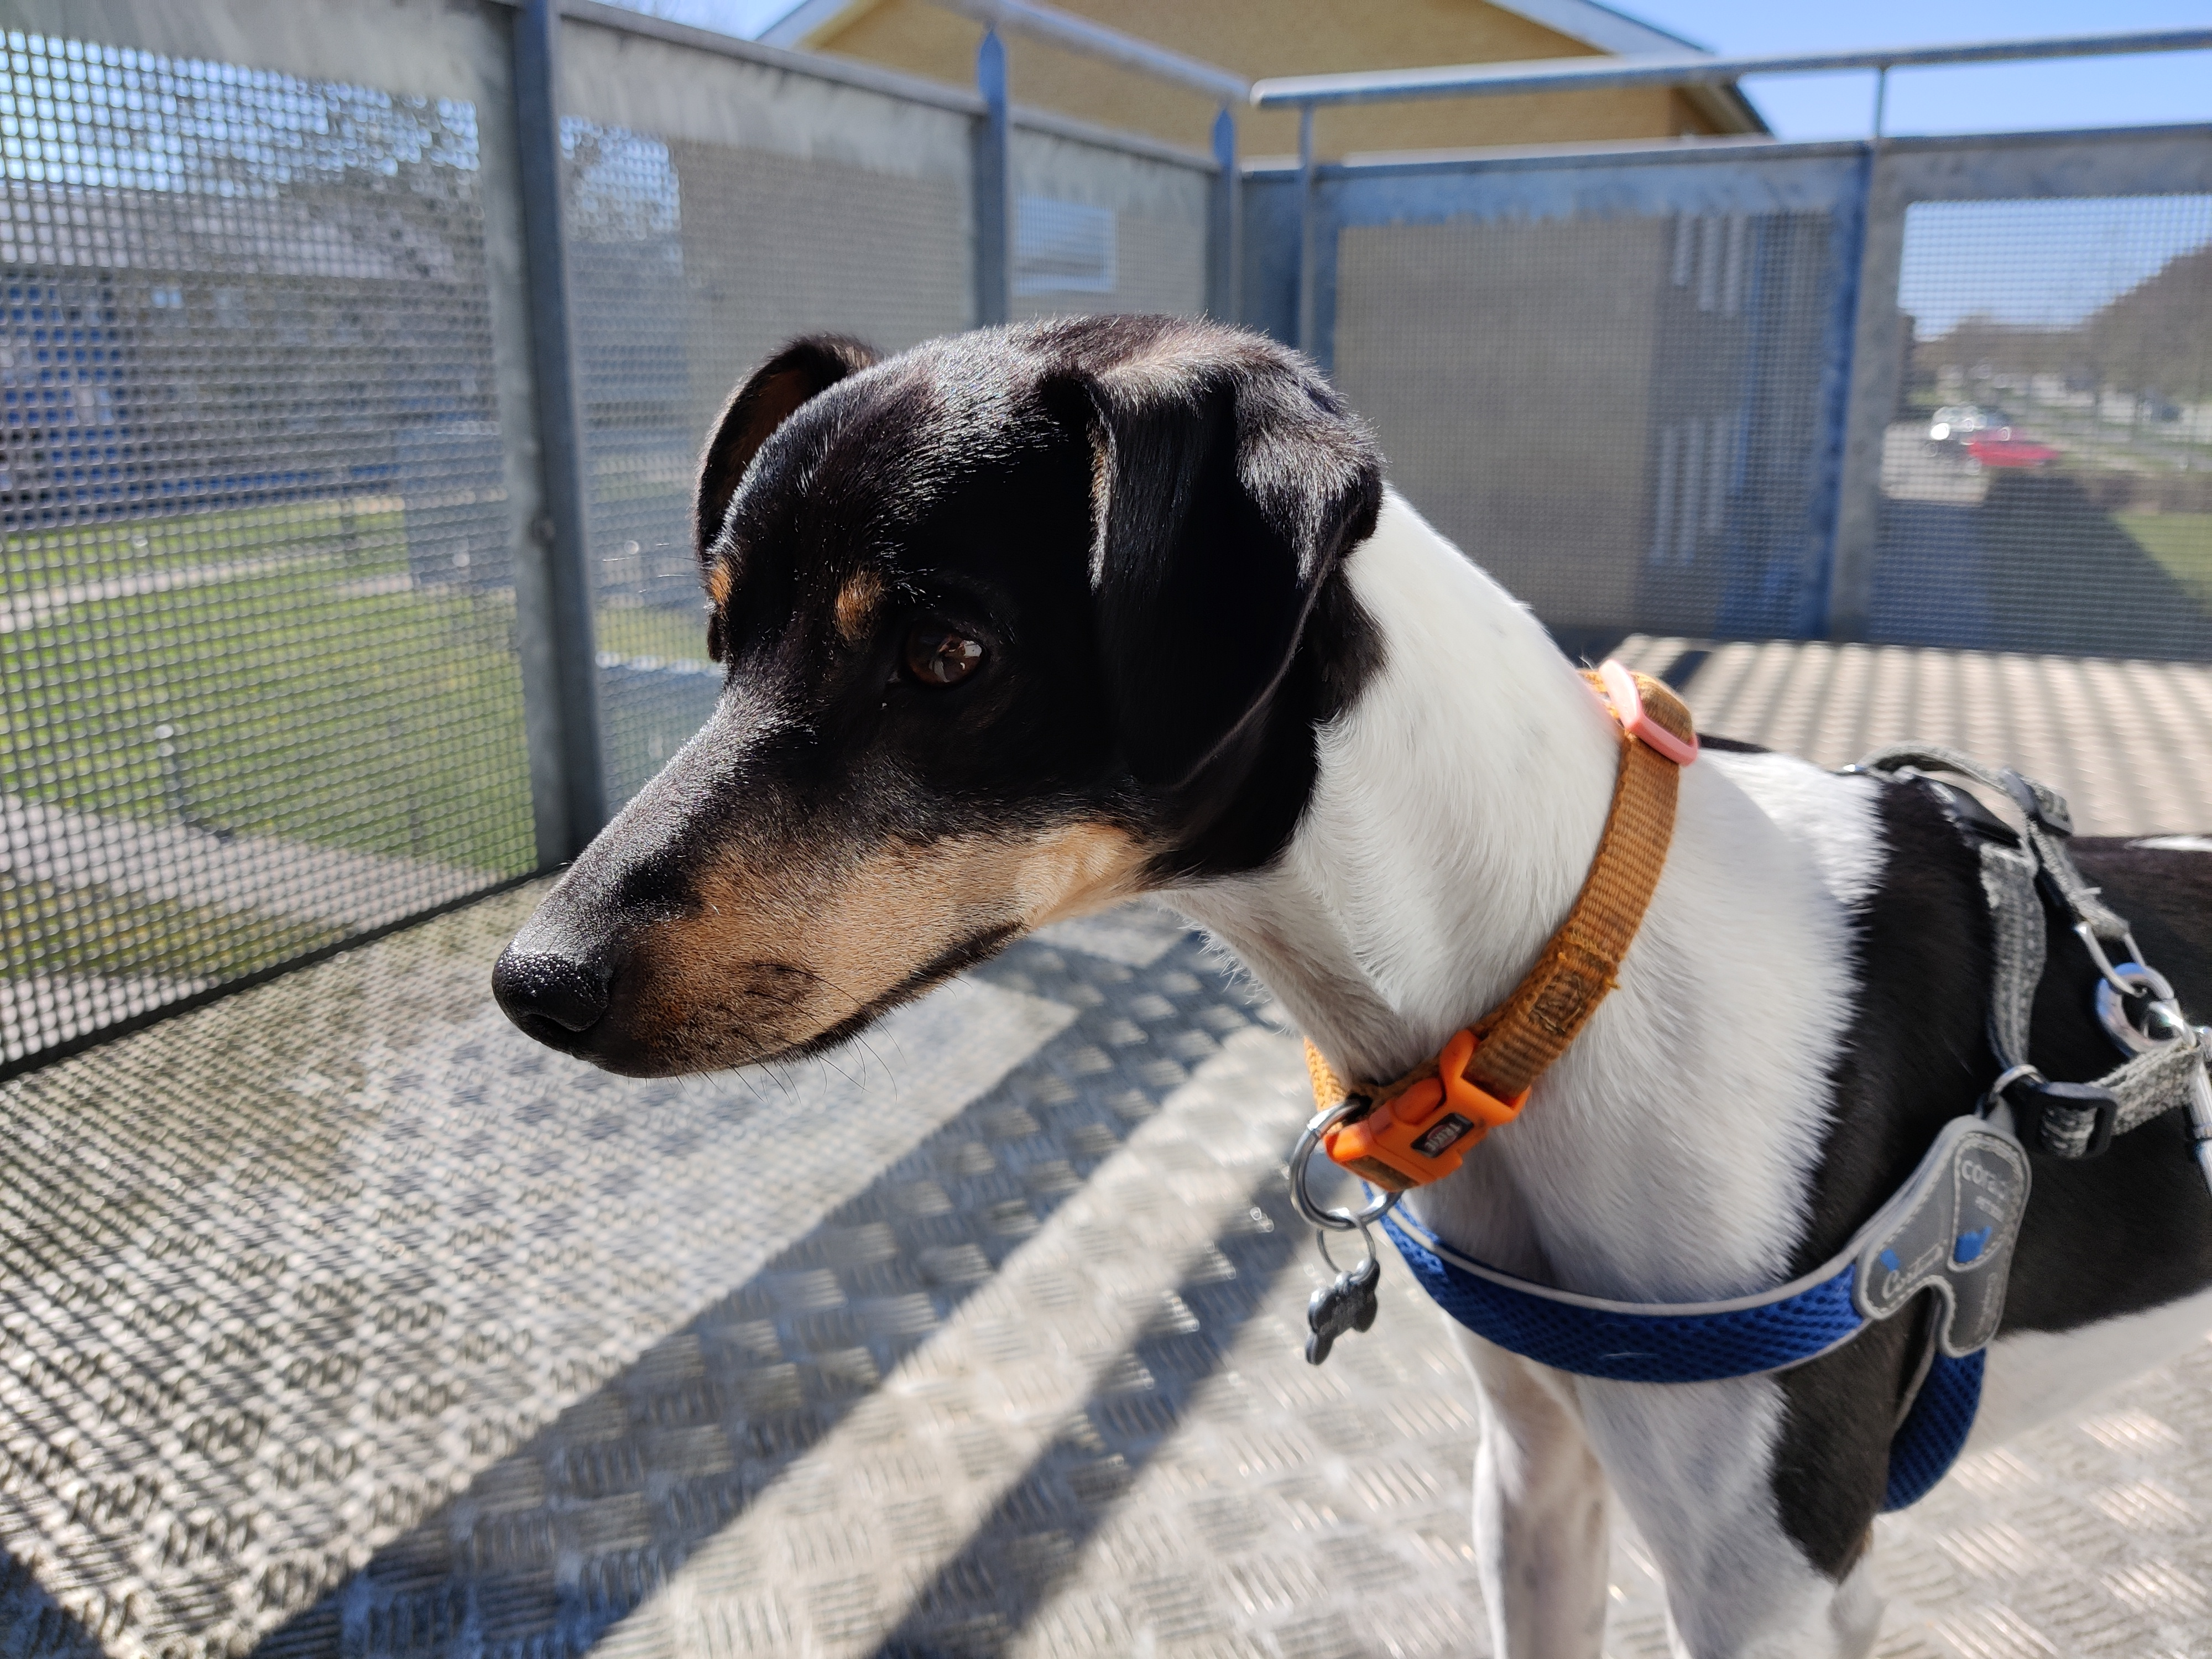Dog: (474, 296, 2212, 1659)
